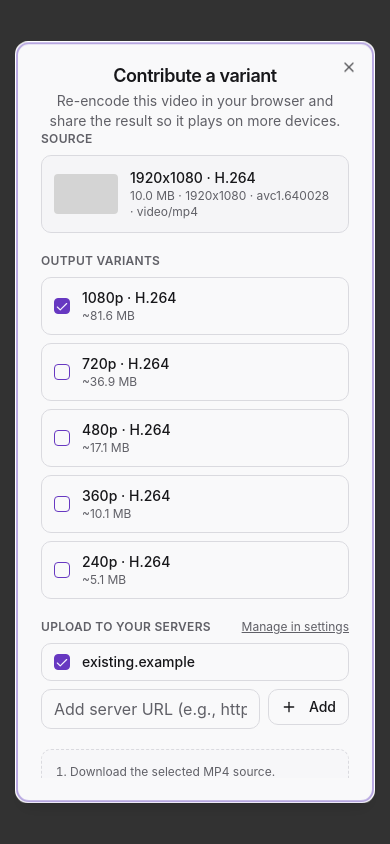
it: ContributeVariantDialog inline server add › adds a new blossom server to config and auto-selects it
Expected: the text "existing.example" is shown, [82,653,195,670]
Note: Add a new server via the inline input + button
Step 1. Type "blossom.primal.net" into the field with placeholder "Add server URL (e.g., https://blossom.primal.net)" → (150, 709), box [41,689,260,729]
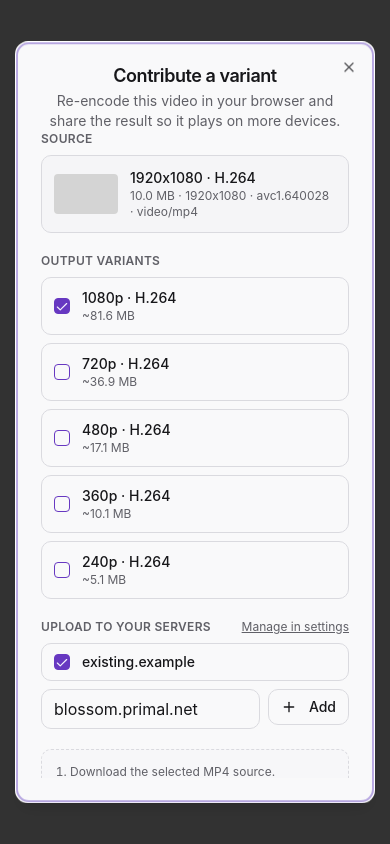
Step 2. Click the button "Add" → (308, 707), box [268,689,349,725]
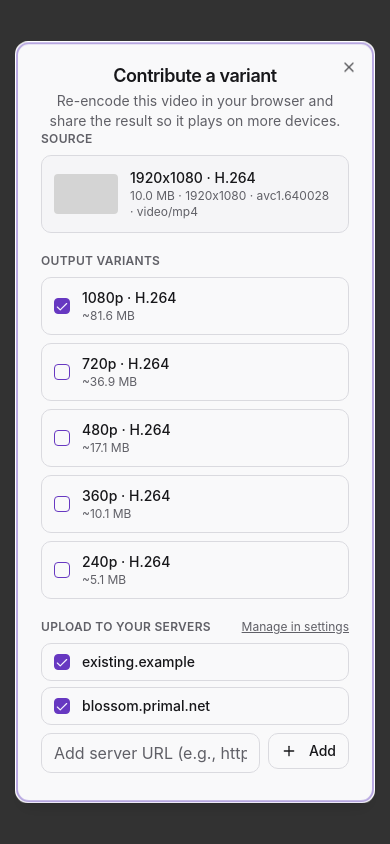
Result: the text "blossom.primal.net" is shown at [82,697,210,714]
Result: the checkbox next to "blossom.primal.net" is checked at [54,698,70,714]
